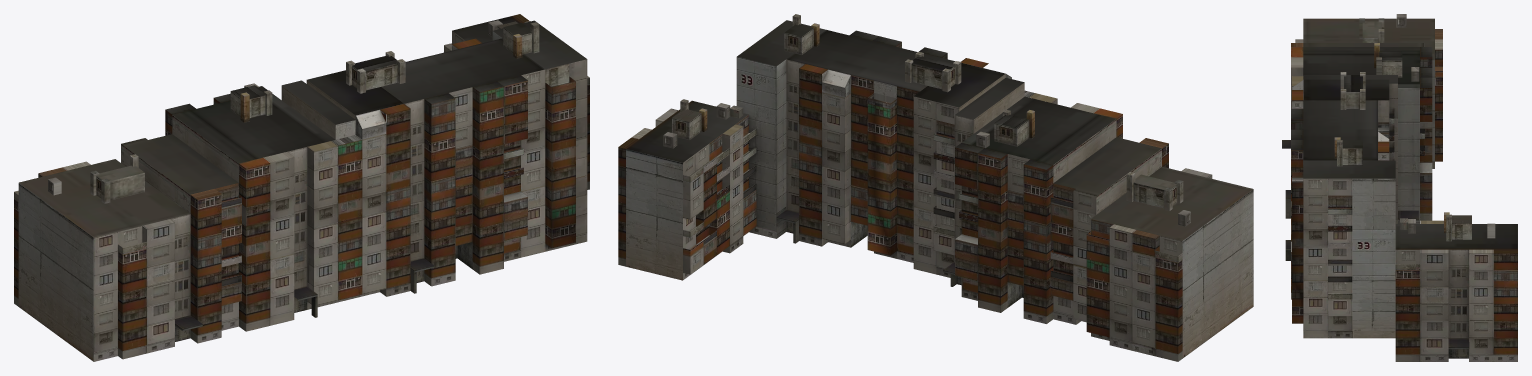
File: apartment_c.glb
3 renders of one model, left to right at view 1: azimuth 30°, elevation 25°; view 2: azimuth 150°, elevation 25°; view 3: azimuth 270°, elevation 25°, orthographic. The views are drawn at different scales.
Parts seen in each view (by area): view 1: project_building02_reference; view 2: project_building02_reference; view 3: project_building02_reference.
Boxes of the visible parts, x1,y1,x2,y2 form: project_building02_reference: (14,14,589,361); project_building02_reference: (618,14,1253,361); project_building02_reference: (1282,14,1517,361).
Bounding box in the file's own units: 3890 × 1388 × 1616.
1 material, 1 textured.
